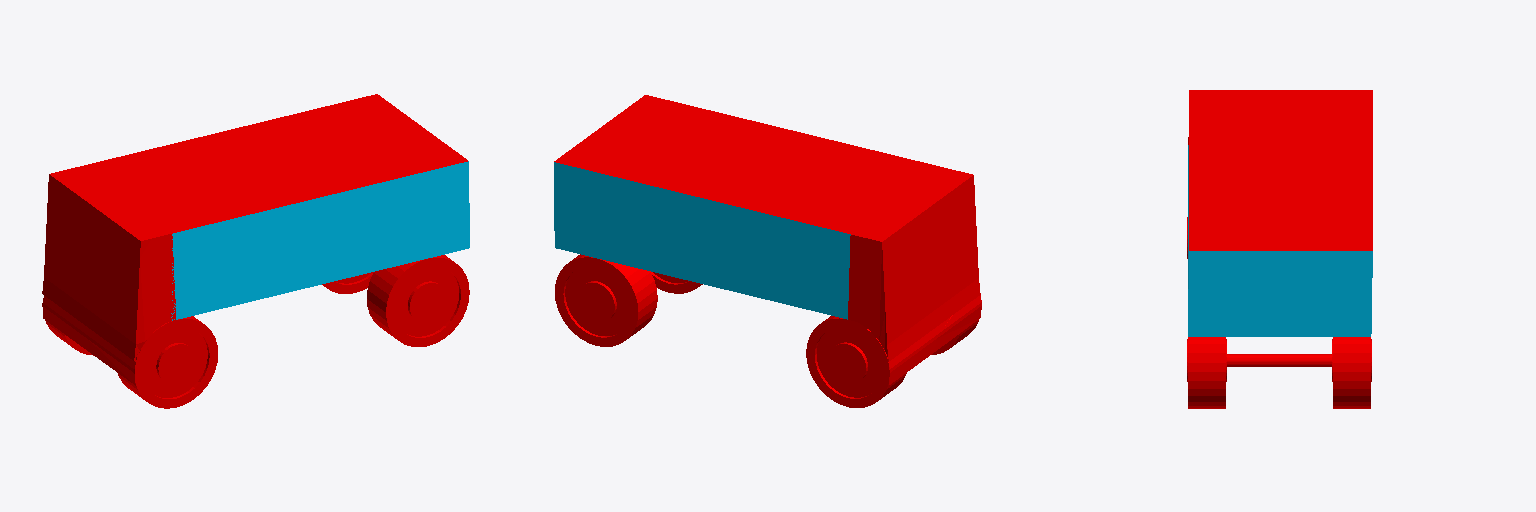
3 views of the same model, side by side, from view 1: azimuth 30°, elevation 25°; view 2: azimuth 150°, elevation 25°; view 3: azimuth 270°, elevation 25° (orthographic).
Parts seen in each view (by area): view 1: Plane_Plane.002, tire.003_Cylinder.003, tire_Cylinder, tire.002_Cylinder.002; view 2: Plane_Plane.002, tire.002_Cylinder.002, tire.001_Cylinder.001, tire.003_Cylinder.003; view 3: Plane_Plane.002, tire.002_Cylinder.002, tire.003_Cylinder.003.
Boxes of the visible parts, x1=… form: Plane_Plane.002: x1=42, y1=94, x2=469, y2=385; tire.003_Cylinder.003: x1=367, y1=255, x2=469, y2=346; tire_Cylinder: x1=118, y1=316, x2=217, y2=408; tire.002_Cylinder.002: x1=322, y1=272, x2=373, y2=293; Plane_Plane.002: x1=554, y1=95, x2=981, y2=384; tire.002_Cylinder.002: x1=555, y1=254, x2=657, y2=346; tire.001_Cylinder.001: x1=806, y1=316, x2=906, y2=407; tire.003_Cylinder.003: x1=650, y1=271, x2=702, y2=293; Plane_Plane.002: x1=1188, y1=90, x2=1372, y2=336; tire.002_Cylinder.002: x1=1278, y1=337, x2=1371, y2=408; tire.003_Cylinder.003: x1=1187, y1=337, x2=1280, y2=408.
Size of the model in its own units: 8.01 by 3.98 by 3.85.